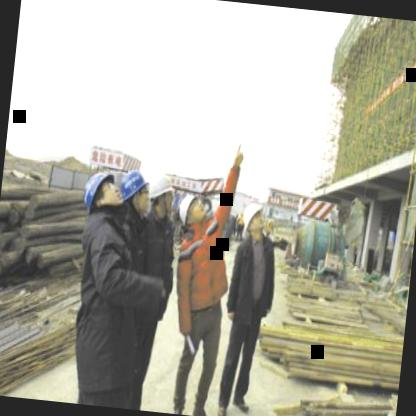helmet: (78, 169, 126, 214), (143, 166, 176, 216), (117, 167, 151, 211), (238, 198, 266, 238), (176, 192, 207, 226)
